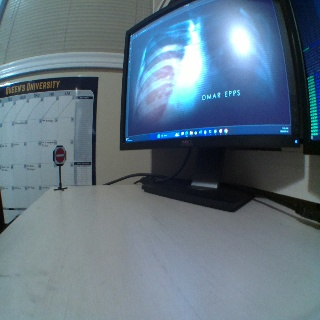sign_noentry: (53, 146, 65, 162)
